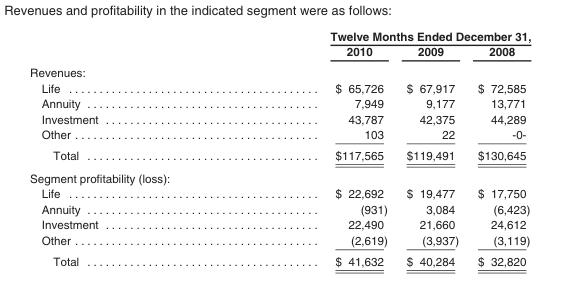table: (29, 28, 530, 267)
table column: (29, 28, 213, 267), (213, 28, 396, 267), (396, 28, 467, 267), (467, 28, 530, 267)
table column header: (29, 28, 530, 61)
table projected row header: (29, 166, 530, 185), (29, 61, 530, 79)
table row: (29, 144, 530, 166), (29, 166, 530, 185), (29, 43, 530, 61), (29, 61, 530, 79), (29, 126, 530, 144), (29, 232, 530, 250), (29, 250, 530, 267), (29, 79, 530, 95), (29, 110, 530, 126), (29, 185, 530, 201), (29, 216, 530, 232), (29, 28, 530, 43), (29, 95, 530, 110), (29, 201, 530, 216)
table spanning cell: (213, 28, 530, 43)
